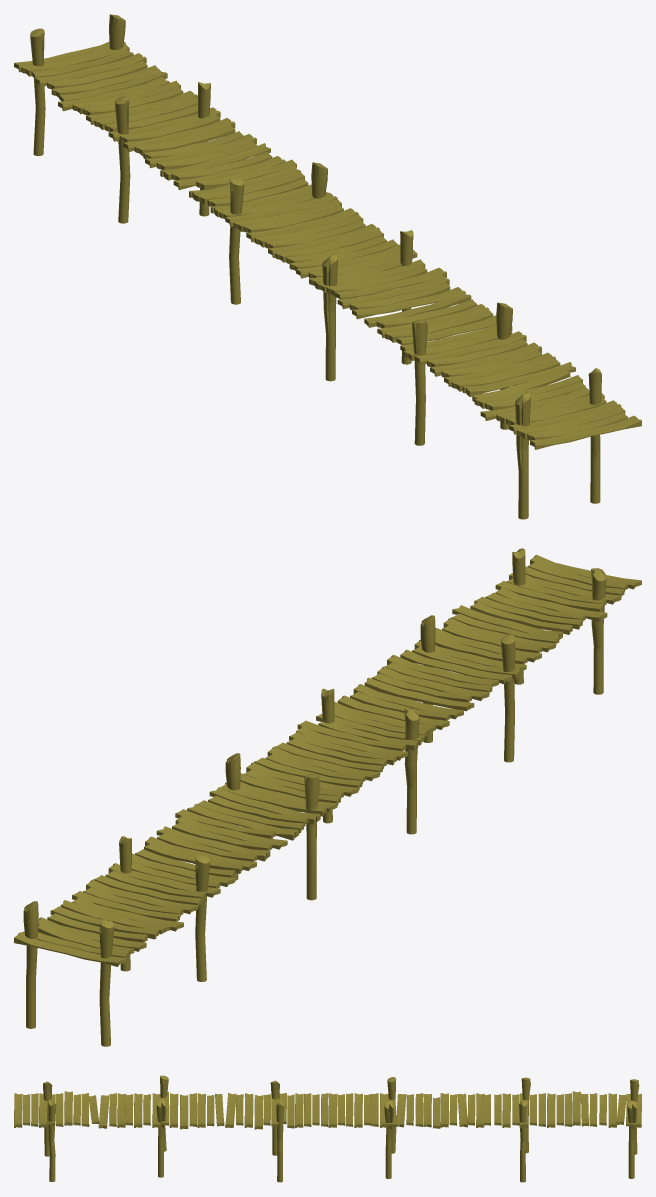
The model's file is dock_uv_casie.fbx.
3 renders of one model, top to bottom at view 1: azimuth 30°, elevation 25°; view 2: azimuth 150°, elevation 25°; view 3: azimuth 270°, elevation 25°, orthographic. The views are drawn at different scales.
Visible parts, largest first — view 1: object_dock_uv_casie_clean; view 2: object_dock_uv_casie_clean; view 3: object_dock_uv_casie_clean.
Boxes of the visible parts, x1,y1,x2,y2 form: object_dock_uv_casie_clean: (14,14,641,519); object_dock_uv_casie_clean: (14,548,641,1046); object_dock_uv_casie_clean: (14,1075,641,1182).
Bounding box in the file's own units: 7.75 × 8.27 × 58.61.
